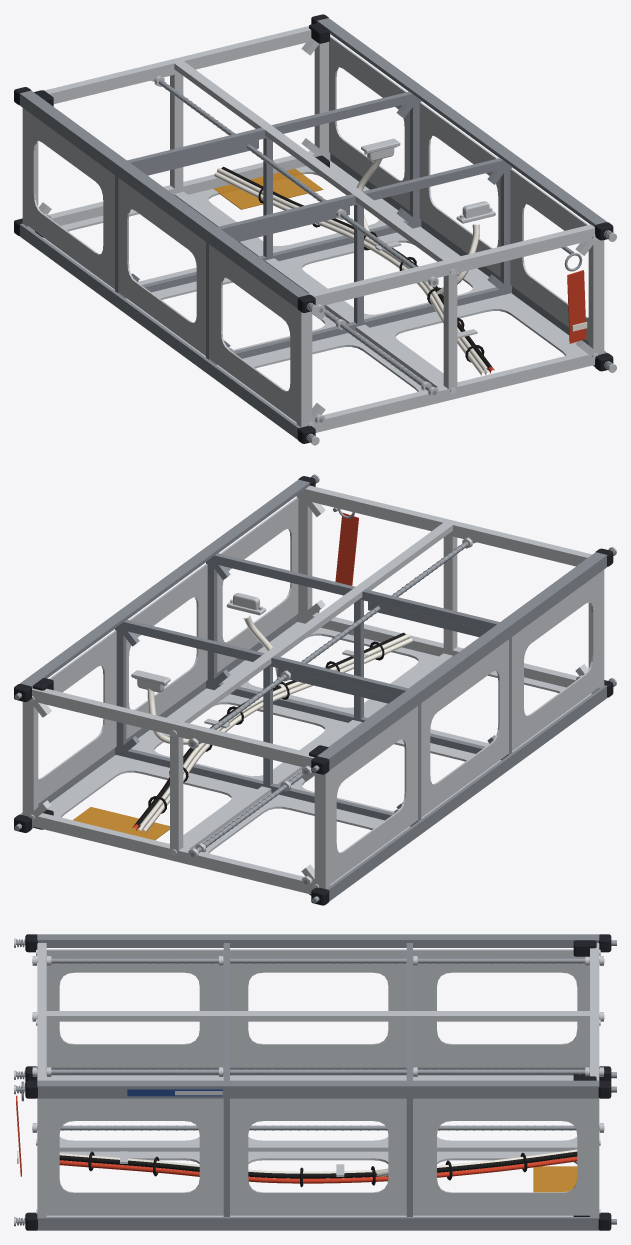
Rendered from bus-6u.glb.
3 renders of one model, top to bottom at view 1: azimuth 30°, elevation 25°; view 2: azimuth 150°, elevation 25°; view 3: azimuth 270°, elevation 25°, orthographic.
Visible parts, largest first — view 1: panel-side-l, panel-side-r, panel-bottom, frame-front-top, frame-front-bottom, rail-lb-web, frame-back-top, rail-rt-flat, stringer-top, frame-front-side (×2), rail-lt-web, rail-lt-flat (+24 smaller); view 2: panel-side-l, panel-side-r, panel-bottom, frame-back-top, frame-front-top, frame-back-bottom, rail-lb-web, rail-rt-flat, stringer-top, frame-back-side (×2), rail-lt-web, rail-lt-flat (+24 smaller); view 3: panel-side-r, panel-side-l, panel-bottom, pc104-rods, rail-rb-web, rail-rt-web, stringer-top, rail-lt-flat, rail-rt-flat, stringer-bottom, rail-lt-web, rail-lb-web (+16 smaller).
Part boxes in pixels (box(x1,y1,x2,y2)): panel-side-l: box(27, 111, 296, 422); panel-side-r: box(329, 36, 588, 341); panel-bottom: box(35, 160, 583, 423); frame-front-top: box(309, 224, 594, 305); frame-front-bottom: box(296, 351, 604, 432); rail-lb-web: box(20, 223, 300, 439); frame-back-top: box(44, 26, 330, 103); rail-rt-flat: box(317, 18, 606, 226); stringer-top: box(173, 60, 453, 261); frame-front-side (×2): box(296, 239, 604, 424); rail-lt-web: box(20, 94, 298, 308); rail-lt-flat: box(20, 90, 309, 297); panel-side-l: box(330, 573, 599, 883); panel-side-r: box(38, 497, 298, 803); panel-bottom: box(47, 622, 591, 885); frame-back-top: box(32, 688, 314, 767); frame-front-top: box(296, 485, 592, 566); frame-back-bottom: box(22, 813, 330, 894); rail-lb-web: box(326, 685, 607, 901); rail-rt-flat: box(20, 479, 309, 688); stringer-top: box(174, 522, 453, 723); frame-back-side (×2): box(22, 701, 330, 886); rail-lt-web: box(329, 555, 607, 770); rail-lt-flat: box(317, 552, 606, 758); panel-side-r: box(46, 1098, 589, 1215); panel-side-l: box(46, 949, 589, 1067); panel-bottom: box(46, 1075, 577, 1216); pc104-rods: box(32, 958, 604, 1130); rail-rb-web: box(37, 1217, 599, 1230); rail-rt-web: box(37, 1086, 599, 1098); stringer-top: box(45, 1011, 591, 1021); rail-lt-flat: box(37, 934, 599, 942); rail-rt-flat: box(37, 1080, 599, 1086); stringer-bottom: box(59, 1143, 577, 1151); rail-lt-web: box(46, 943, 573, 947); rail-lb-web: box(46, 1067, 589, 1075).
Size of the model in its own units: 0.2281 by 0.1 by 0.3786.
